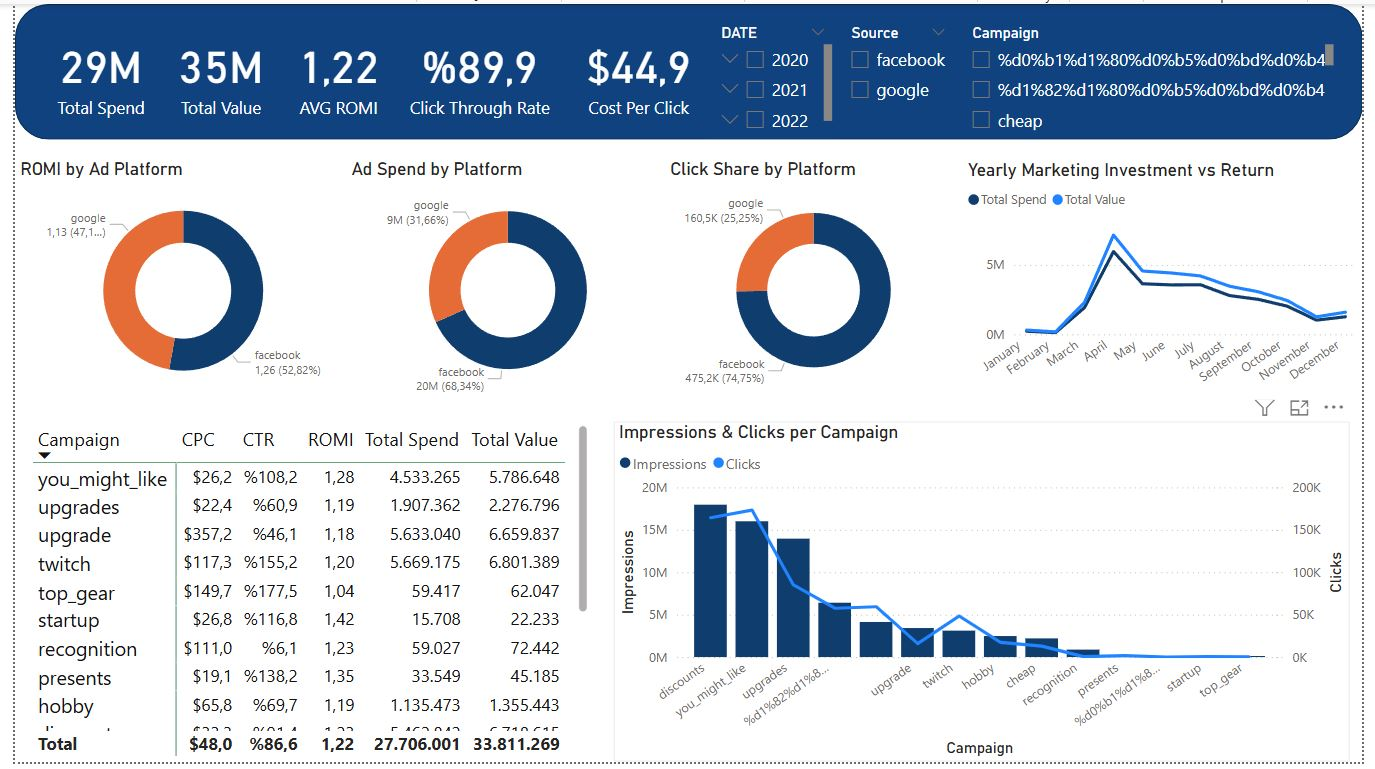

What the dashboard file says about the page in this screenshot:
{"tool":"powerbi","page":{"name":"Page 2","canvas":[1280,720],"ordinal":0},"visuals":[{"type":"shape","box":[0,0,1280,128.8],"z":0},{"type":"slicer","fields":{"Values":["marketting_campaign_analysis.ad_date.Variation.Date Hierarchy.Year","marketting_campaign_analysis.ad_date.Variation.Date Hierarchy.Quarter","marketting_campaign_analysis.ad_date.Variation.Date Hierarchy.Month","marketting_campaign_analysis.ad_date.Variation.Date Hierarchy.Day"]},"box":[657.8,14.2,123.5,114],"z":1000},{"type":"slicer","fields":{"Values":["marketting_campaign_analysis.utm_source"]},"box":[781.3,14.7,114.7,110.7],"z":2000},{"type":"slicer","fields":{"Values":["marketting_campaign_analysis.utm_campaign"]},"box":[896,14.7,361.3,110.7],"z":3000},{"type":"card","fields":{"Values":["Sum(marketting_campaign_analysis.spend)"]},"box":[23.7,10.9,116.4,111.6],"z":4000},{"type":"card","fields":{"Values":["marketting_campaign_analysis.AVG_ROMI"]},"box":[251.7,10.9,111.6,111.6],"z":5000},{"type":"card","fields":{"Values":["marketting_campaign_analysis.CTR_new"]},"box":[361,10.9,161.5,111.6],"z":6000},{"type":"card","fields":{"Values":["marketting_campaign_analysis.CPC_new"]},"box":[520.1,10.9,144.9,111.6],"z":7000},{"type":"donutChart","title":"Ad Spend by Platform","fields":{"Category":["marketting_campaign_analysis.utm_source"],"Y":["Sum(marketting_campaign_analysis.spend)"]},"box":[314.6,146.3,307.5,232.7],"z":8000},{"type":"donutChart","title":"Click Share by Platform","fields":{"Category":["marketting_campaign_analysis.utm_source"],"Y":["Sum(marketting_campaign_analysis.clicks)"]},"box":[617.4,146.3,282.6,232.7],"z":9000},{"type":"donutChart","title":"ROMI by Ad Platform","fields":{"Y":["marketting_campaign_analysis.ROMI"],"Category":["marketting_campaign_analysis.utm_source"]},"box":[0,145.8,320,233.8],"z":10000},{"type":"pivotTable","fields":{"Rows":["marketting_campaign_analysis.utm_campaign"],"Values":["marketting_campaign_analysis.CPC_new","marketting_campaign_analysis.CTR_new","marketting_campaign_analysis.ROMI","Sum(marketting_campaign_analysis.spend)","Sum(marketting_campaign_analysis.value)"]},"box":[11.4,395.7,537.1,324.3],"z":11000},{"type":"lineClusteredColumnComboChart","title":"Impressions & Clicks per Campaign","fields":{"Category":["marketting_campaign_analysis.utm_campaign"],"Y":["Sum(marketting_campaign_analysis.impressions)"],"Y2":["Sum(marketting_campaign_analysis.clicks)"]},"box":[568.8,396.2,698.8,323.8],"z":12000},{"type":"lineChart","title":"Yearly Marketing Investment vs Return","fields":{"Category":["marketting_campaign_analysis.ad_date.Variation.Date Hierarchy.Month"],"Y":["Sum(marketting_campaign_analysis.spend)","Sum(marketting_campaign_analysis.value)"]},"box":[900,147.5,380,228.8],"z":13000},{"type":"card","fields":{"Values":["Sum(marketting_campaign_analysis.value)"]},"box":[137.7,10.9,116.4,111.6],"z":14000}]}

Visuals, with their boxes in screenshot pixels (x1, y1, x2, y2), scaled from the page's 1280x720 canvas onto the 1375x769 screenshot:
shape: (left=0, top=0, right=1374, bottom=138)
slicer - marketting_campaign_analysis.ad_date.Variation.Date Hierarchy.Year x marketting_campaign_analysis.ad_date.Variation.Date Hierarchy.Quarter: (left=707, top=15, right=839, bottom=137)
slicer - marketting_campaign_analysis.utm_source: (left=839, top=16, right=962, bottom=134)
slicer - marketting_campaign_analysis.utm_campaign: (left=962, top=16, right=1351, bottom=134)
card - Sum(marketting_campaign_analysis.spend): (left=25, top=12, right=150, bottom=131)
card - marketting_campaign_analysis.AVG_ROMI: (left=270, top=12, right=390, bottom=131)
card - marketting_campaign_analysis.CTR_new: (left=388, top=12, right=561, bottom=131)
card - marketting_campaign_analysis.CPC_new: (left=559, top=12, right=714, bottom=131)
"Ad Spend by Platform" donutChart: (left=338, top=156, right=668, bottom=405)
"Click Share by Platform" donutChart: (left=663, top=156, right=967, bottom=405)
"ROMI by Ad Platform" donutChart: (left=0, top=156, right=344, bottom=405)
pivotTable - marketting_campaign_analysis.utm_campaign x marketting_campaign_analysis.CPC_new: (left=12, top=423, right=589, bottom=768)
"Impressions & Clicks per Campaign" lineClusteredColumnComboChart: (left=611, top=423, right=1362, bottom=768)
"Yearly Marketing Investment vs Return" lineChart: (left=967, top=158, right=1374, bottom=402)
card - Sum(marketting_campaign_analysis.value): (left=148, top=12, right=273, bottom=131)
